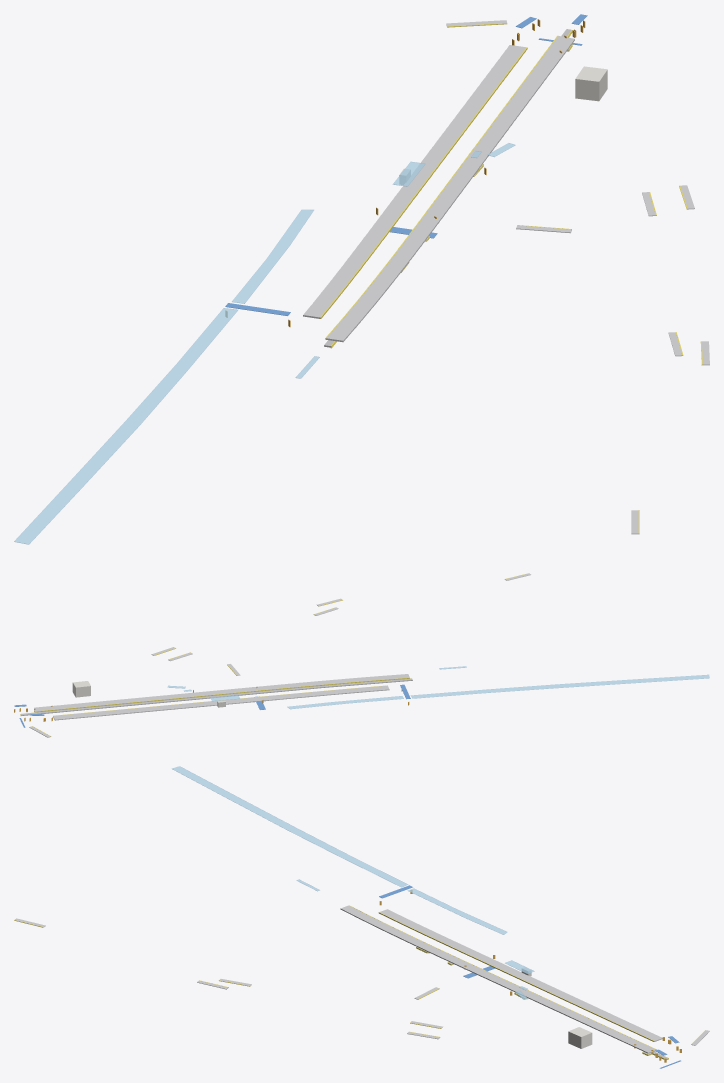
File: 8504105-niederwangen.glb
3 views of the same model, one above another, from view 1: azimuth 30°, elevation 25°; view 2: azimuth 150°, elevation 25°; view 3: azimuth 270°, elevation 25° (orthographic). The views are drawn at different scales.
Parts seen in each view (by area): view 1: platform_body@0, roof@0, boarding_edge@0, building_part@x; view 2: platform_body@0, roof@0, platform_surface@0, boarding_edge@0, building_part@x; view 3: platform_body@0, roof@0, boarding_edge@0, building_part@x.
Part boxes in pixels (x1,y1,x2,y2): platform_body@0: (303, 20, 709, 534); roof@0: (14, 143, 515, 544); boarding_edge@0: (320, 23, 702, 533); building_part@x: (399, 66, 607, 184); platform_body@0: (29, 573, 530, 737); roof@0: (167, 666, 709, 709); platform_surface@0: (20, 678, 412, 715); boarding_edge@0: (20, 573, 528, 736); building_part@x: (72, 681, 225, 707); platform_body@0: (15, 905, 709, 1053); roof@0: (172, 766, 534, 999); boarding_edge@0: (14, 905, 705, 1059); building_part@x: (521, 968, 592, 1048).
Bounding box in the file's own units: 363 × 11.62 × 369.
